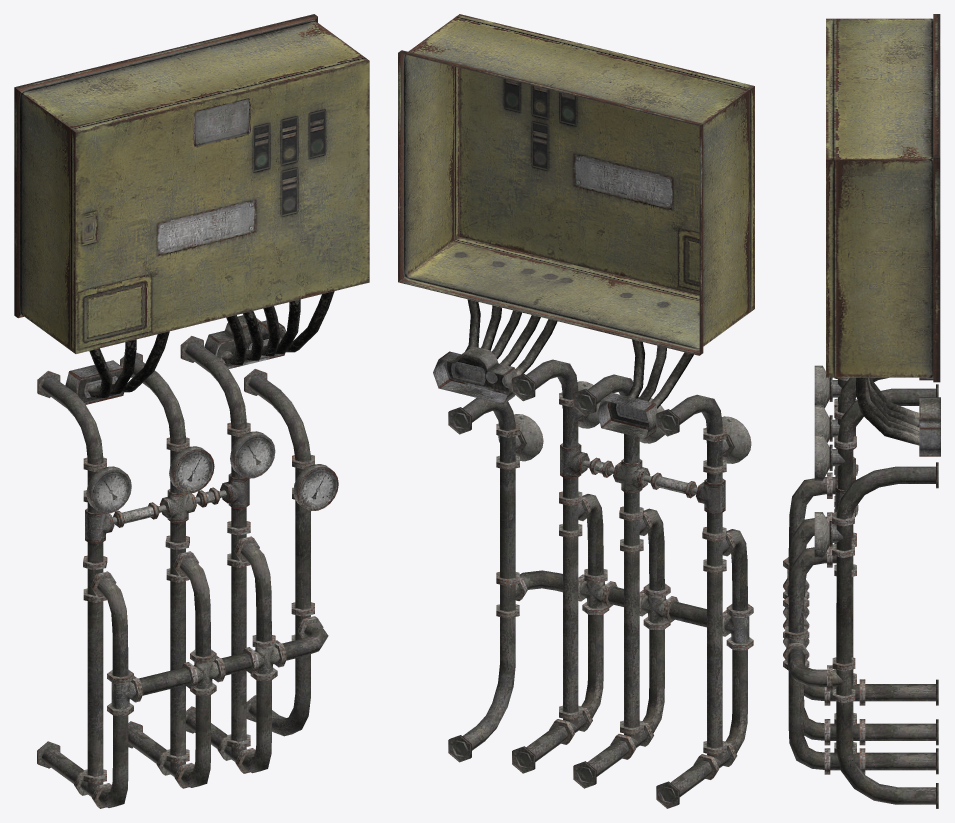
The model's file is sm22_018_switchboard09a.fbx.
3 renders of one model, left to right at view 1: azimuth 30°, elevation 25°; view 2: azimuth 150°, elevation 25°; view 3: azimuth 270°, elevation 25°, orthographic. The views are drawn at different scales.
Visible parts, largest first — view 1: LOD_1_Group_0_Sub_1__sm22_018_ShipsSwitchboard09A_A_Mat, LOD_1_Group_1_Sub_1__sm22_018_ShipsSwitchboard09A_A_Mat, LOD_1_Group_2_Sub_1__sm22_018_ShipsSwitchboard09A_A_Mat, LOD_1_Group_6_Sub_1__sm22_018_ShipsSwitchboard09A_A_Mat, LOD_1_Group_14_Sub_1__sm22_018_ShipsSwitchboard09A_A_Mat, LOD_1_Group_15_Sub_1__sm22_018_ShipsSwitchboard09A_A_Mat, LOD_1_Group_8_Sub_1__sm22_018_ShipsSwitchboard09A_A_Mat, LOD_1_Group_5_Sub_1__sm22_018_ShipsSwitchboard09A_A_Mat, LOD_1_Group_13_Sub_1__sm22_018_ShipsSwitchboard09A_A_Mat; view 2: LOD_1_Group_0_Sub_1__sm22_018_ShipsSwitchboard09A_A_Mat, LOD_1_Group_1_Sub_1__sm22_018_ShipsSwitchboard09A_A_Mat, LOD_1_Group_2_Sub_1__sm22_018_ShipsSwitchboard09A_A_Mat, LOD_1_Group_14_Sub_1__sm22_018_ShipsSwitchboard09A_A_Mat, LOD_1_Group_15_Sub_1__sm22_018_ShipsSwitchboard09A_A_Mat, LOD_1_Group_6_Sub_1__sm22_018_ShipsSwitchboard09A_A_Mat, LOD_1_Group_8_Sub_1__sm22_018_ShipsSwitchboard09A_A_Mat, LOD_1_Group_5_Sub_1__sm22_018_ShipsSwitchboard09A_A_Mat; view 3: LOD_1_Group_0_Sub_1__sm22_018_ShipsSwitchboard09A_A_Mat, LOD_1_Group_1_Sub_1__sm22_018_ShipsSwitchboard09A_A_Mat, LOD_1_Group_14_Sub_1__sm22_018_ShipsSwitchboard09A_A_Mat, LOD_1_Group_6_Sub_1__sm22_018_ShipsSwitchboard09A_A_Mat.
Boxes of the visible parts, x1,y1,x2,y2 form: LOD_1_Group_0_Sub_1__sm22_018_ShipsSwitchboard09A_A_Mat: (14,14,369,353); LOD_1_Group_1_Sub_1__sm22_018_ShipsSwitchboard09A_A_Mat: (37,291,338,808); LOD_1_Group_2_Sub_1__sm22_018_ShipsSwitchboard09A_A_Mat: (42,377,103,790); LOD_1_Group_6_Sub_1__sm22_018_ShipsSwitchboard09A_A_Mat: (86,466,131,513); LOD_1_Group_14_Sub_1__sm22_018_ShipsSwitchboard09A_A_Mat: (204,315,286,368); LOD_1_Group_15_Sub_1__sm22_018_ShipsSwitchboard09A_A_Mat: (65,360,123,404); LOD_1_Group_8_Sub_1__sm22_018_ShipsSwitchboard09A_A_Mat: (159,489,196,523); LOD_1_Group_5_Sub_1__sm22_018_ShipsSwitchboard09A_A_Mat: (85,508,114,543); LOD_1_Group_13_Sub_1__sm22_018_ShipsSwitchboard09A_A_Mat: (97,339,136,394); LOD_1_Group_0_Sub_1__sm22_018_ShipsSwitchboard09A_A_Mat: (398,14,754,355); LOD_1_Group_1_Sub_1__sm22_018_ShipsSwitchboard09A_A_Mat: (448,278,753,808); LOD_1_Group_2_Sub_1__sm22_018_ShipsSwitchboard09A_A_Mat: (660,394,722,762); LOD_1_Group_14_Sub_1__sm22_018_ShipsSwitchboard09A_A_Mat: (433,346,517,404); LOD_1_Group_15_Sub_1__sm22_018_ShipsSwitchboard09A_A_Mat: (597,392,657,438); LOD_1_Group_6_Sub_1__sm22_018_ShipsSwitchboard09A_A_Mat: (706,416,751,463); LOD_1_Group_8_Sub_1__sm22_018_ShipsSwitchboard09A_A_Mat: (613,459,650,493); LOD_1_Group_5_Sub_1__sm22_018_ShipsSwitchboard09A_A_Mat: (696,478,725,514); LOD_1_Group_0_Sub_1__sm22_018_ShipsSwitchboard09A_A_Mat: (826,14,940,382); LOD_1_Group_1_Sub_1__sm22_018_ShipsSwitchboard09A_A_Mat: (783,377,938,808); LOD_1_Group_14_Sub_1__sm22_018_ShipsSwitchboard09A_A_Mat: (919,397,940,456); LOD_1_Group_6_Sub_1__sm22_018_ShipsSwitchboard09A_A_Mat: (814,365,829,408).
Bounding box in the file's own units: 0.5799 × 1.28 × 0.2689.
